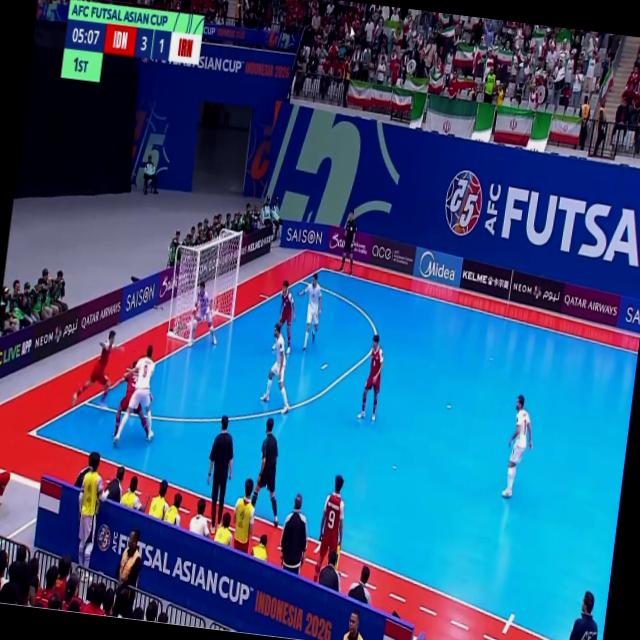keeper: (198, 294, 209, 316)
referee: (252, 418, 278, 527), (340, 211, 357, 274)
